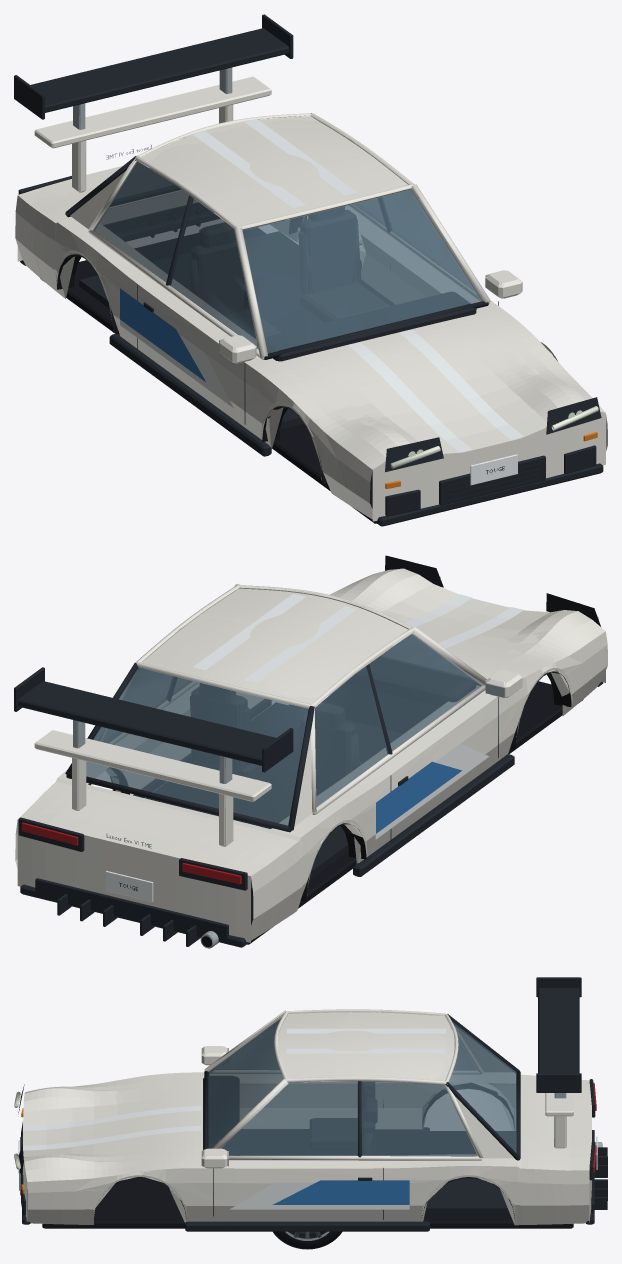
Rendered from evo6.glb.
The picture shows the model from 3 angles, top to bottom: view 1: azimuth 30°, elevation 25°; view 2: azimuth 150°, elevation 25°; view 3: azimuth 270°, elevation 25°; orthographic projection. The views are drawn at different scales.
Parts seen in each view (by area): view 1: LOD0_cabin, LOD0_body, LOD0_glass, LOD1_glass, LOD1_body, LOD0_hood, LOD1_hood, LOD1_spoiler_gt, LOD1_cabin, LOD0_spoiler_gt, LOD0_vinyl_twin, LOD0_vinyl_apex (+3 smaller); view 2: LOD0_body, LOD0_cabin, LOD0_glass, LOD1_glass, LOD1_body, LOD1_spoiler_gt, LOD1_hood, LOD0_hood, LOD1_cabin, LOD0_spoiler_gt, LOD0_vinyl_apex, LOD1_spoiler_stock (+3 smaller); view 3: LOD0_body, LOD0_cabin, LOD0_glass, LOD1_glass, LOD1_body, LOD0_hood, LOD1_cabin, LOD1_hood, LOD0_vinyl_apex, LOD1_spoiler_gt, LOD0_vinyl_twin, LOD0_spoiler_gt (+5 smaller).
Part boxes in pixels (box(x1,y1,x2,y2)): LOD0_cabin: box(65, 113, 490, 428); LOD0_body: box(15, 171, 607, 526); LOD0_glass: box(94, 162, 481, 352); LOD1_glass: box(94, 162, 480, 353); LOD1_body: box(17, 166, 607, 526); LOD0_hood: box(268, 310, 584, 457); LOD1_hood: box(294, 321, 565, 453); LOD1_spoiler_gt: box(15, 28, 293, 129); LOD1_cabin: box(66, 113, 489, 428); LOD0_spoiler_gt: box(14, 14, 293, 129); LOD0_vinyl_twin: box(193, 119, 508, 449); LOD0_vinyl_apex: box(120, 288, 233, 408); LOD0_body: box(17, 555, 607, 948); LOD0_cabin: box(65, 583, 486, 895); LOD0_glass: box(86, 634, 481, 825); LOD1_glass: box(86, 634, 481, 824); LOD1_body: box(15, 574, 605, 948); LOD1_spoiler_gt: box(14, 667, 280, 783); LOD1_hood: box(352, 573, 551, 660); LOD0_hood: box(339, 568, 591, 687); LOD1_cabin: box(70, 584, 485, 894); LOD0_spoiler_gt: box(14, 668, 293, 783); LOD0_vinyl_apex: box(375, 743, 489, 839); LOD1_spoiler_stock: box(34, 730, 271, 846); LOD0_body: box(14, 1046, 607, 1231); LOD0_cabin: box(203, 1009, 520, 1213); LOD0_glass: box(208, 1018, 516, 1156); LOD1_glass: box(208, 1019, 516, 1156); LOD1_body: box(15, 1046, 602, 1231); LOD0_hood: box(23, 1077, 203, 1170); LOD1_cabin: box(207, 1010, 520, 1213); LOD1_hood: box(23, 1083, 189, 1161); LOD0_vinyl_apex: box(229, 1180, 409, 1209); LOD1_spoiler_gt: box(536, 978, 581, 1097); LOD0_vinyl_twin: box(31, 1028, 446, 1150); LOD0_spoiler_gt: box(536, 977, 581, 1098).
Bounding box in the file's own units: 2.03 × 1.85 × 4.54.
